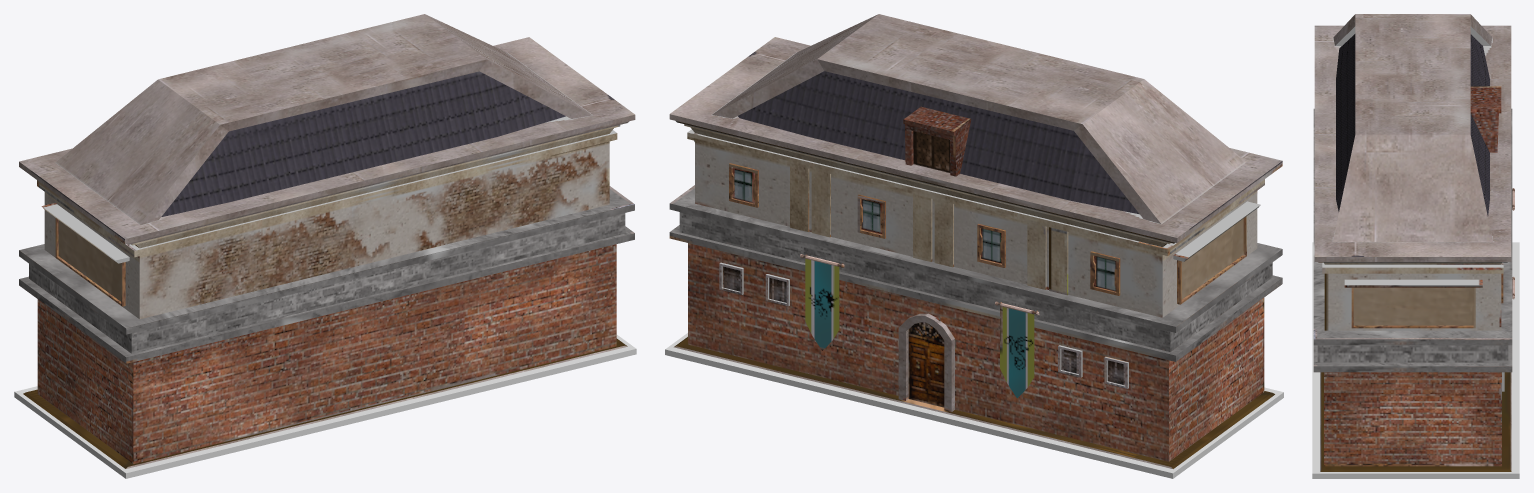
Rendered from bighouse.glb.
The picture shows the model from 3 angles, left to right: view 1: azimuth 30°, elevation 25°; view 2: azimuth 150°, elevation 25°; view 3: azimuth 270°, elevation 25°; orthographic projection. The views are drawn at different scales.
Visible parts, largest first — view 1: house, sement; view 2: house, sement; view 3: house, sement.
Boxes of the visible parts, x1,y1,x2,y2 form: house: [19, 14, 635, 468]; sement: [14, 334, 636, 478]; house: [669, 14, 1282, 468]; sement: [665, 333, 1283, 478]; house: [1313, 14, 1514, 471]; sement: [1312, 242, 1519, 478].
Size of the model in its own units: 18.57 by 10.74 by 7.02.
1 material, 1 textured.
